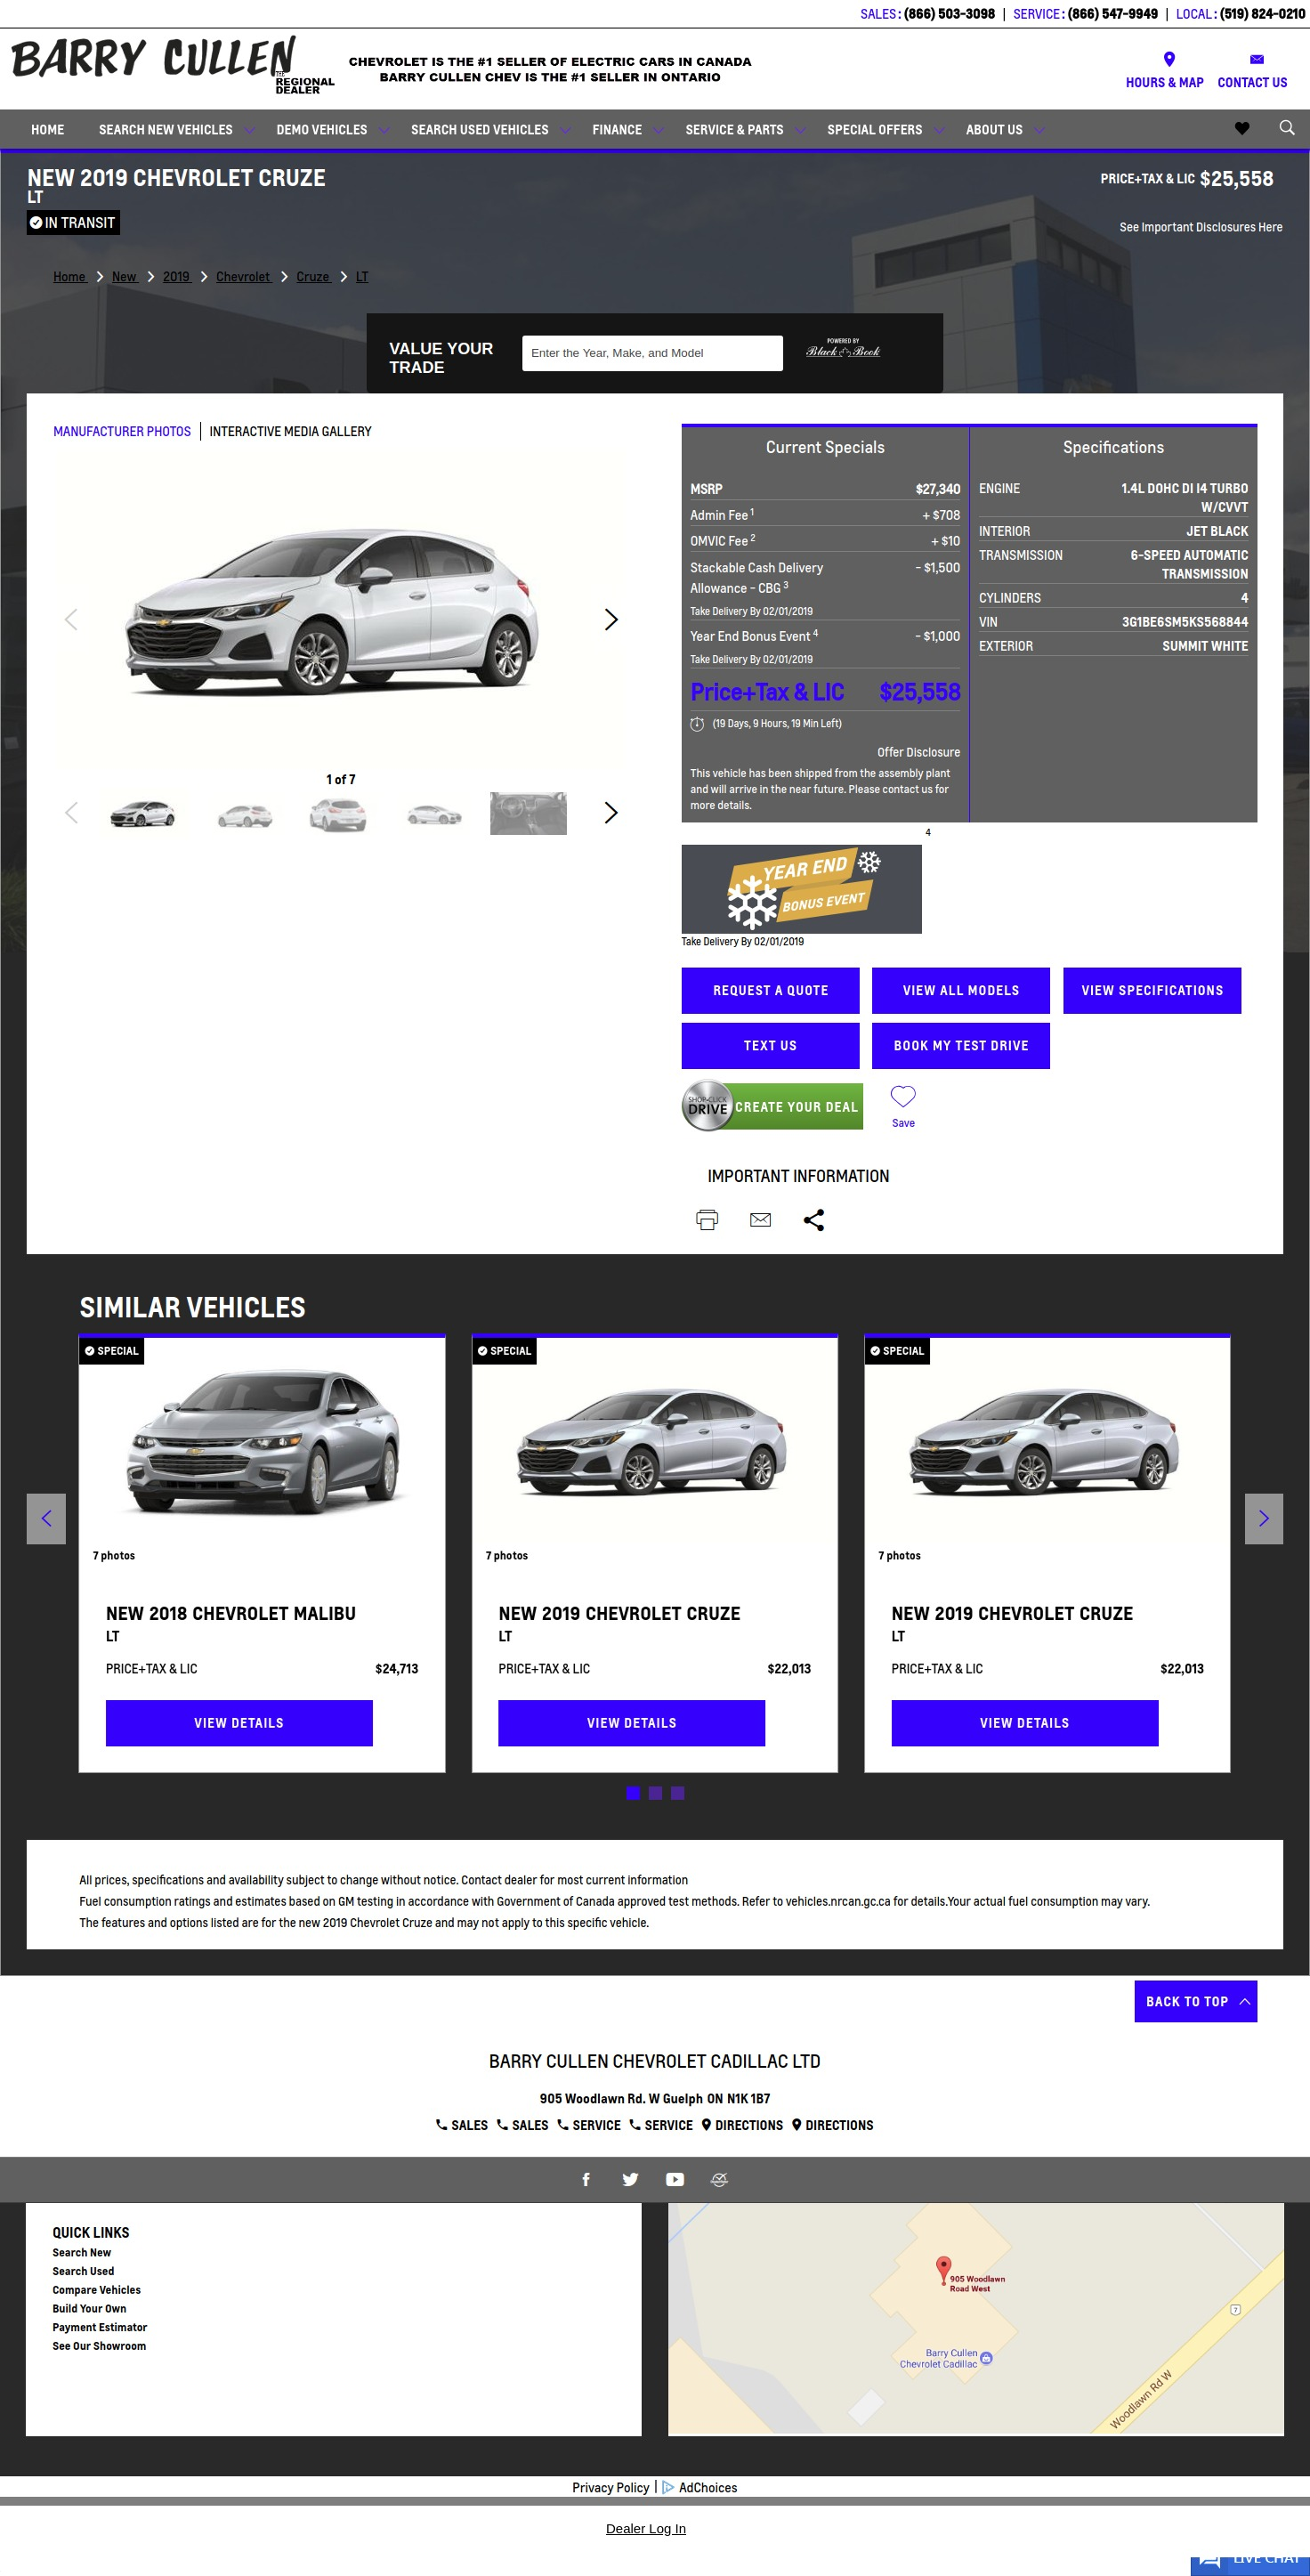car: (605, 802, 622, 827)
